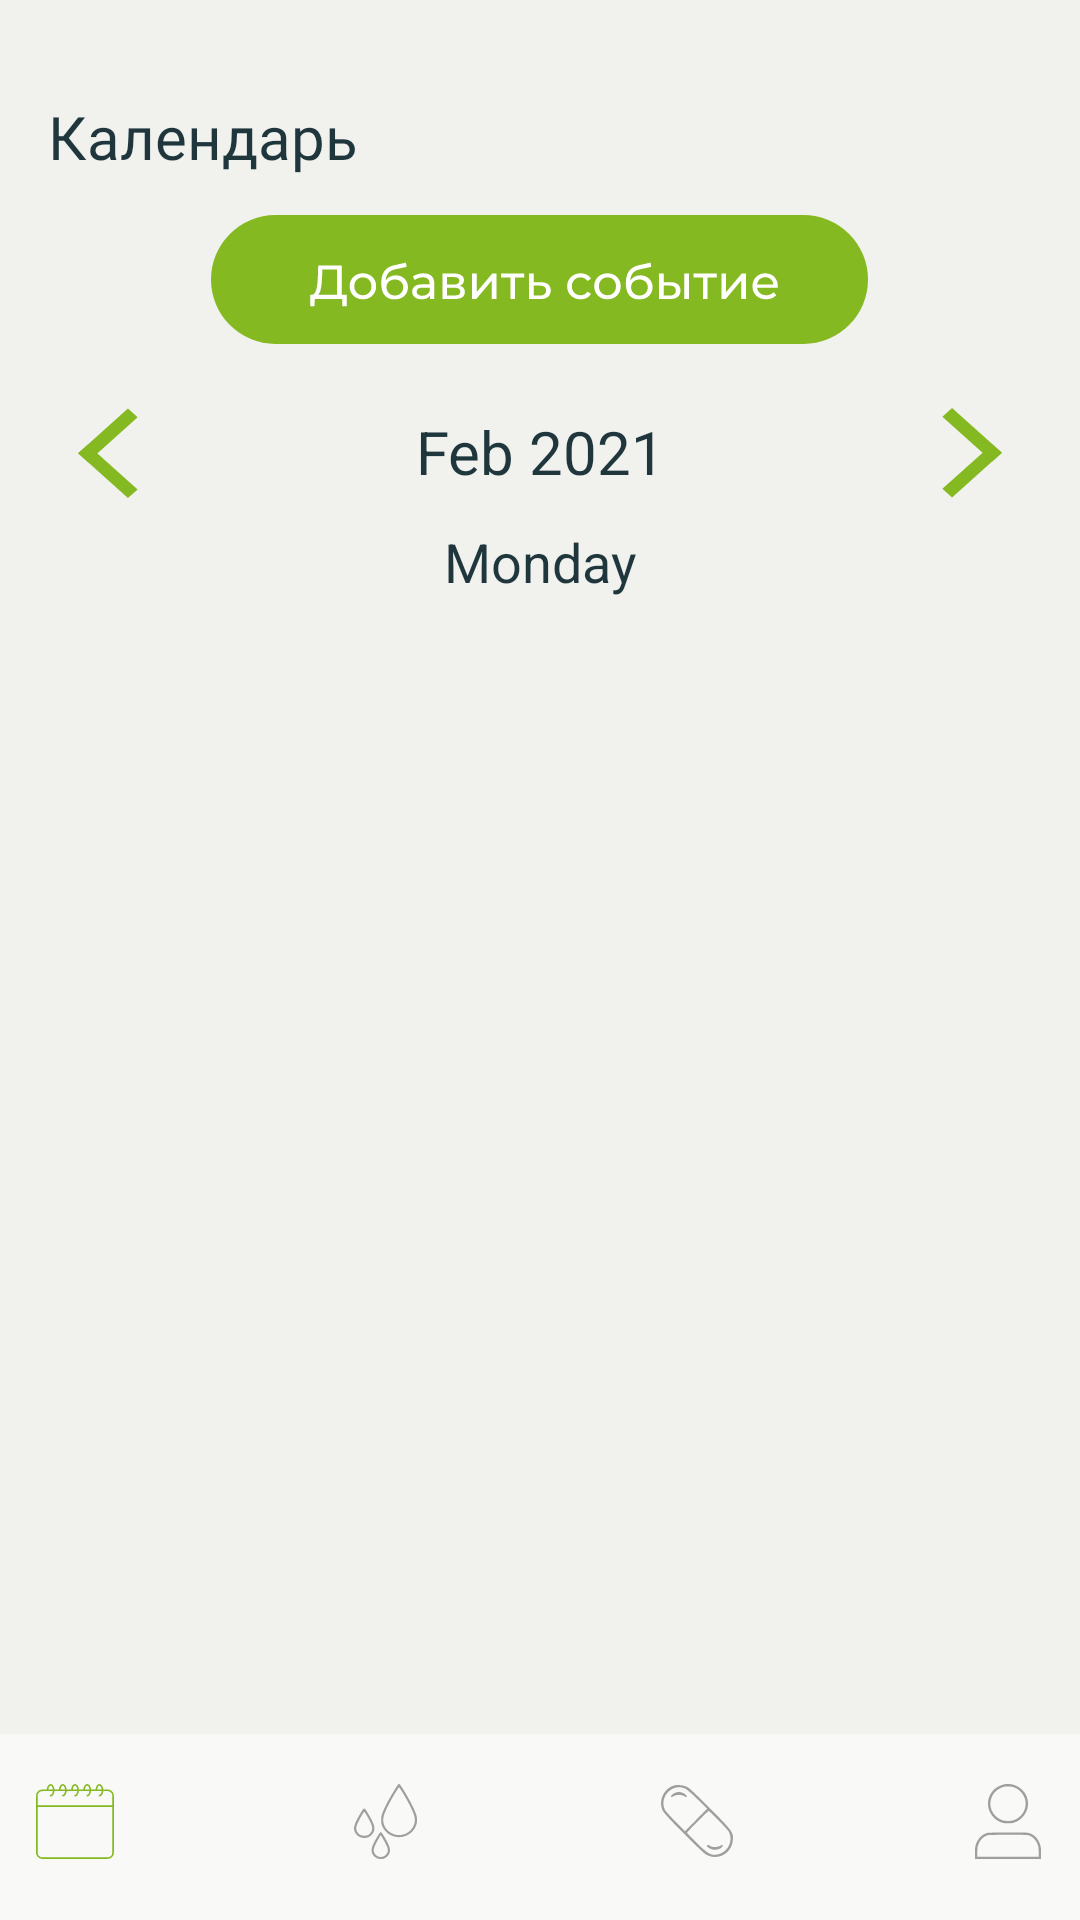

Icon bounding boxes for this 1080×1920 phone screenshot, format (x1, y1, x2, y2):
left: (78, 408, 138, 498)
lekgray: (661, 1785, 733, 1857)
right: (942, 408, 1002, 498)
Водный баланс: (354, 1784, 417, 1859)
